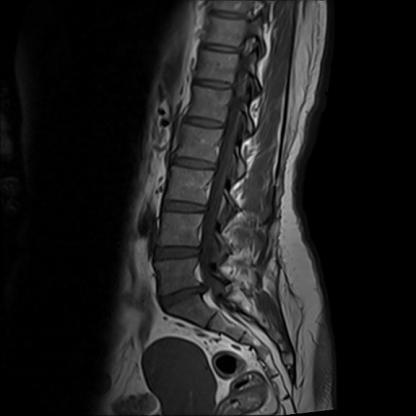Degenerative Disc Diseaserotation: (158, 287, 208, 309)
Disc Herniationrotation: (157, 287, 208, 309)
